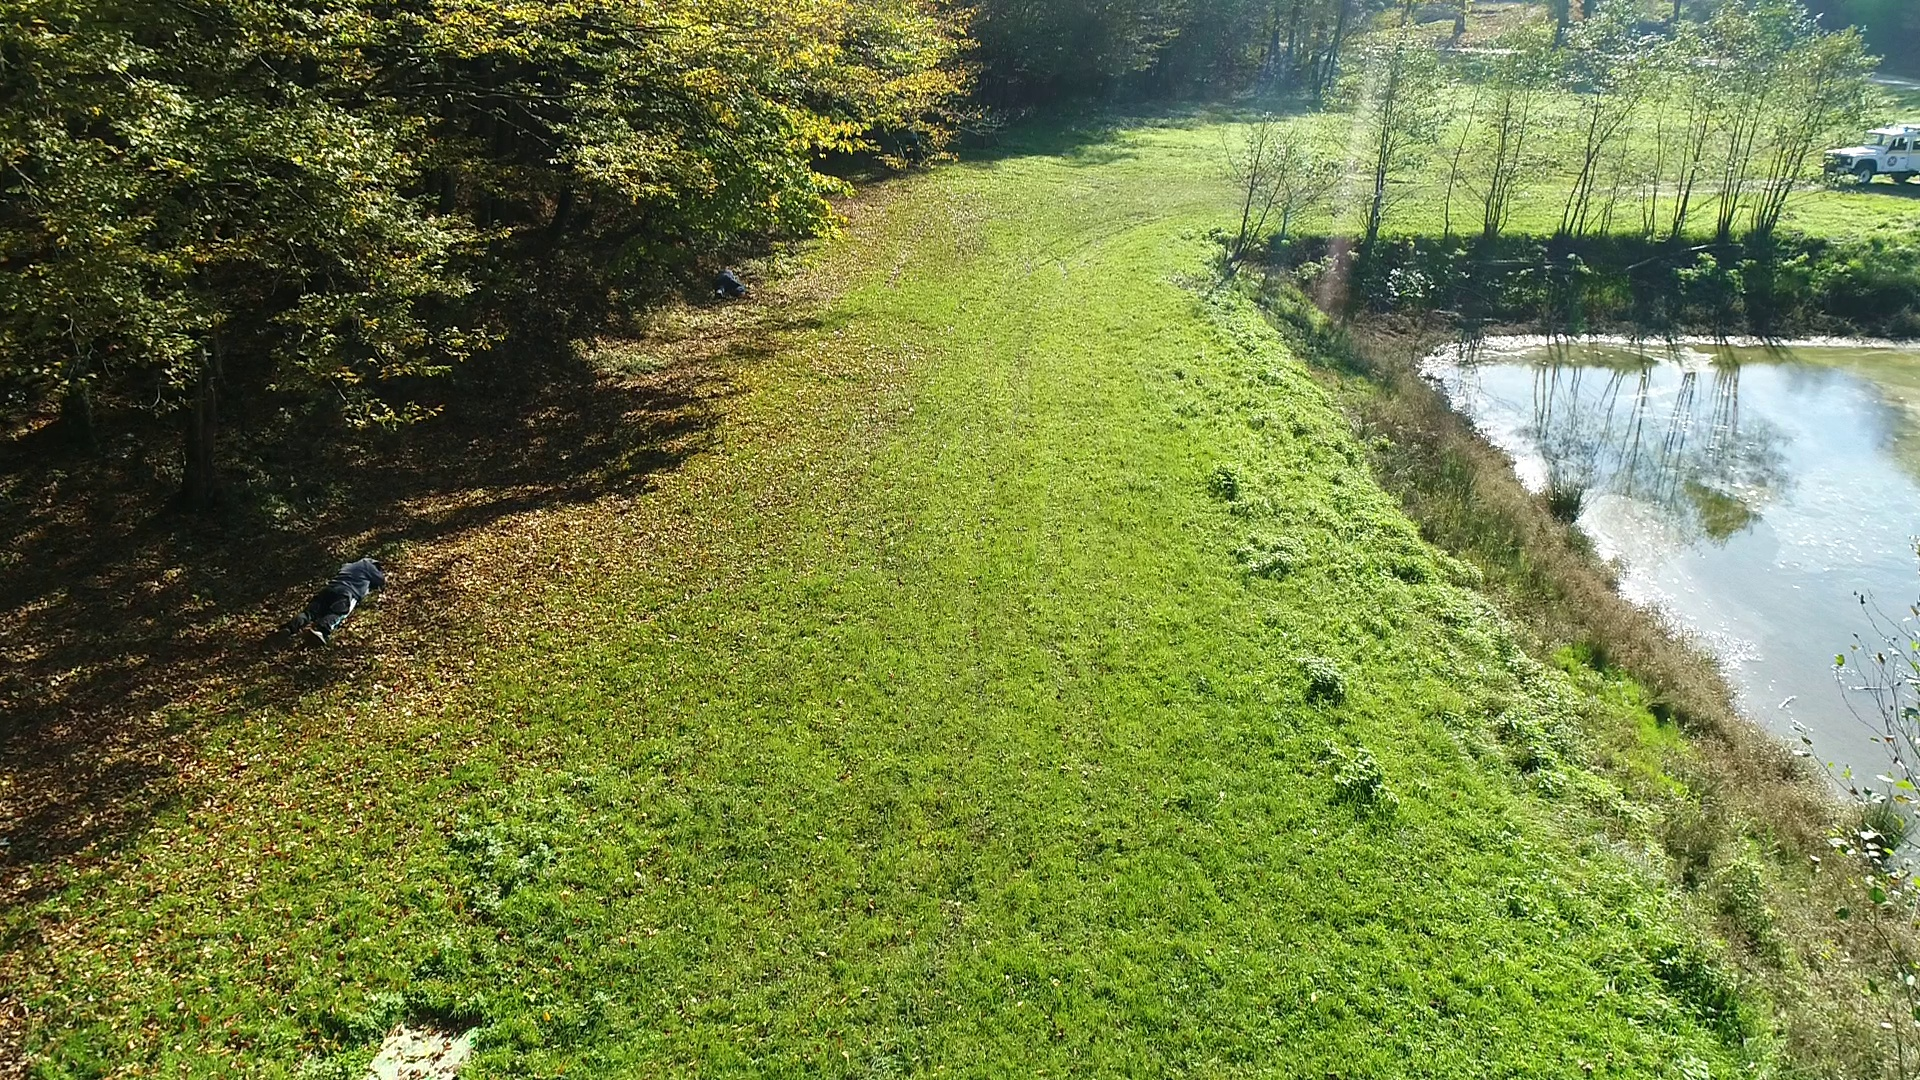person: (273, 557, 386, 646), (713, 265, 746, 298), (901, 119, 919, 165)
